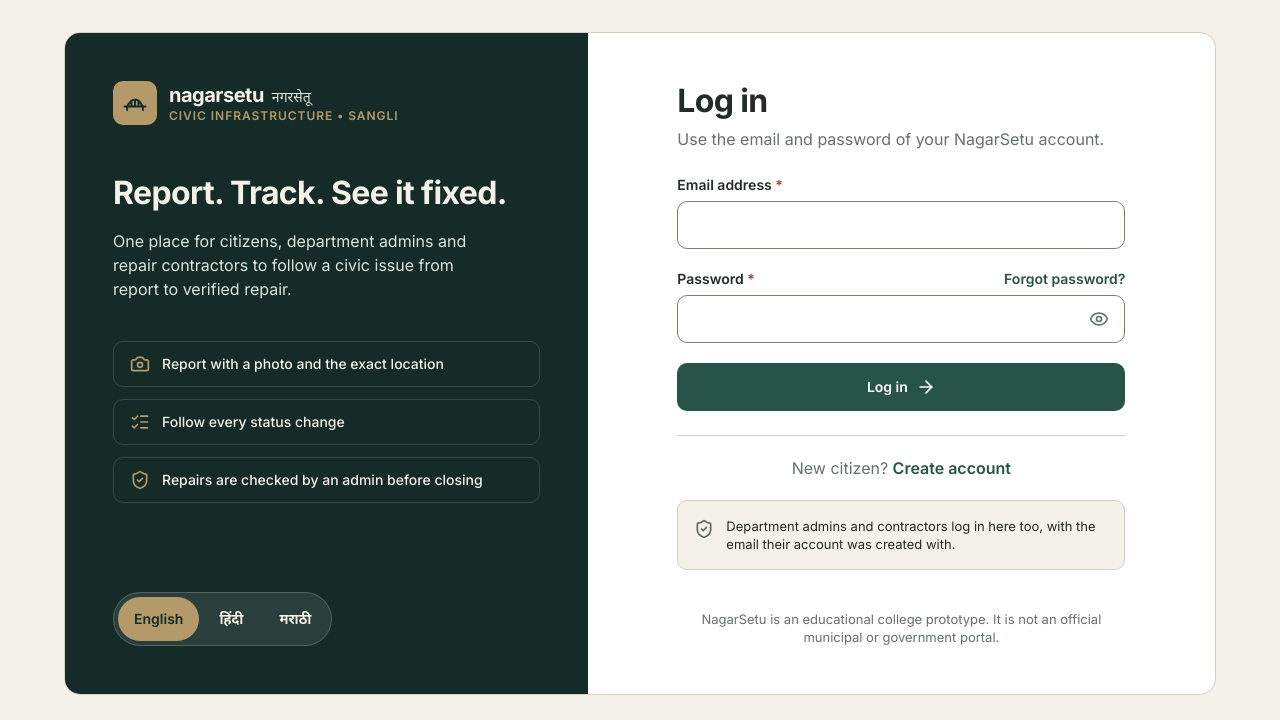
Test case: login and role redirect › shows the lockout screen with the minutes from the server
Type "x@example.com" into the field labelled "Email address *" at (901, 225), box [677,201,1125,249]
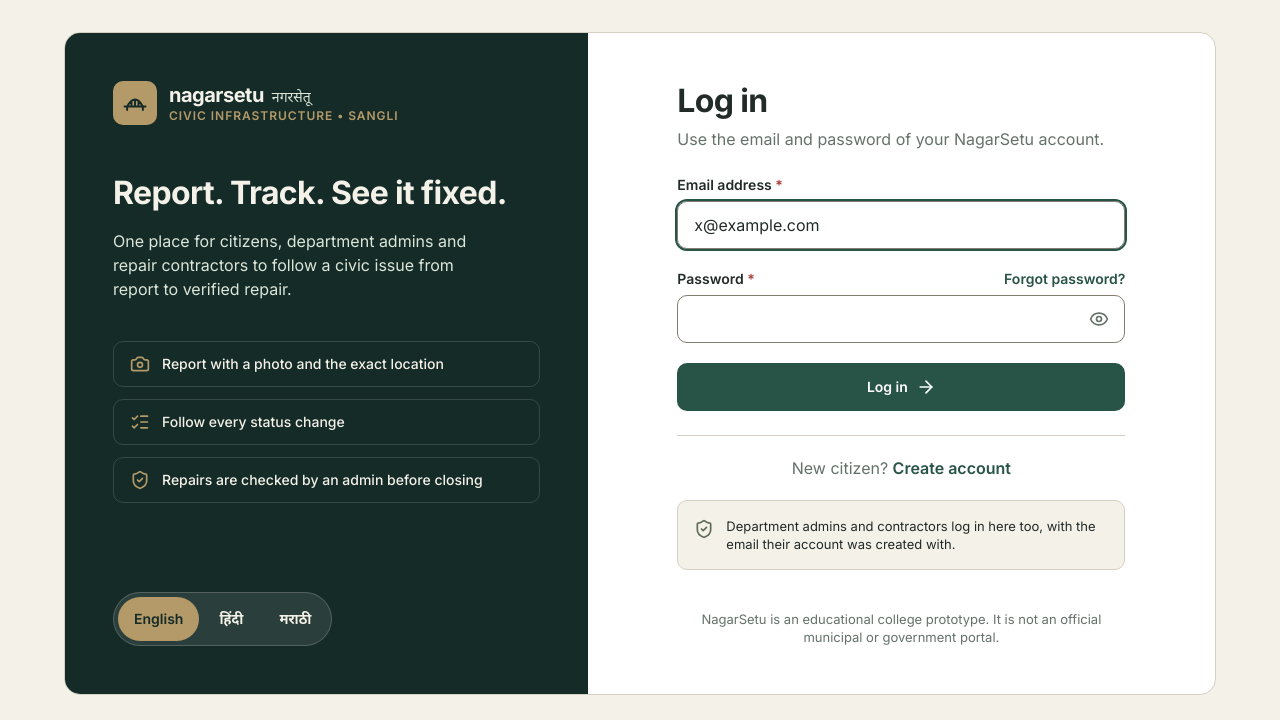
Type "secret-pass" into the password field labelled "Password *" at (901, 319), box [677,295,1125,343]
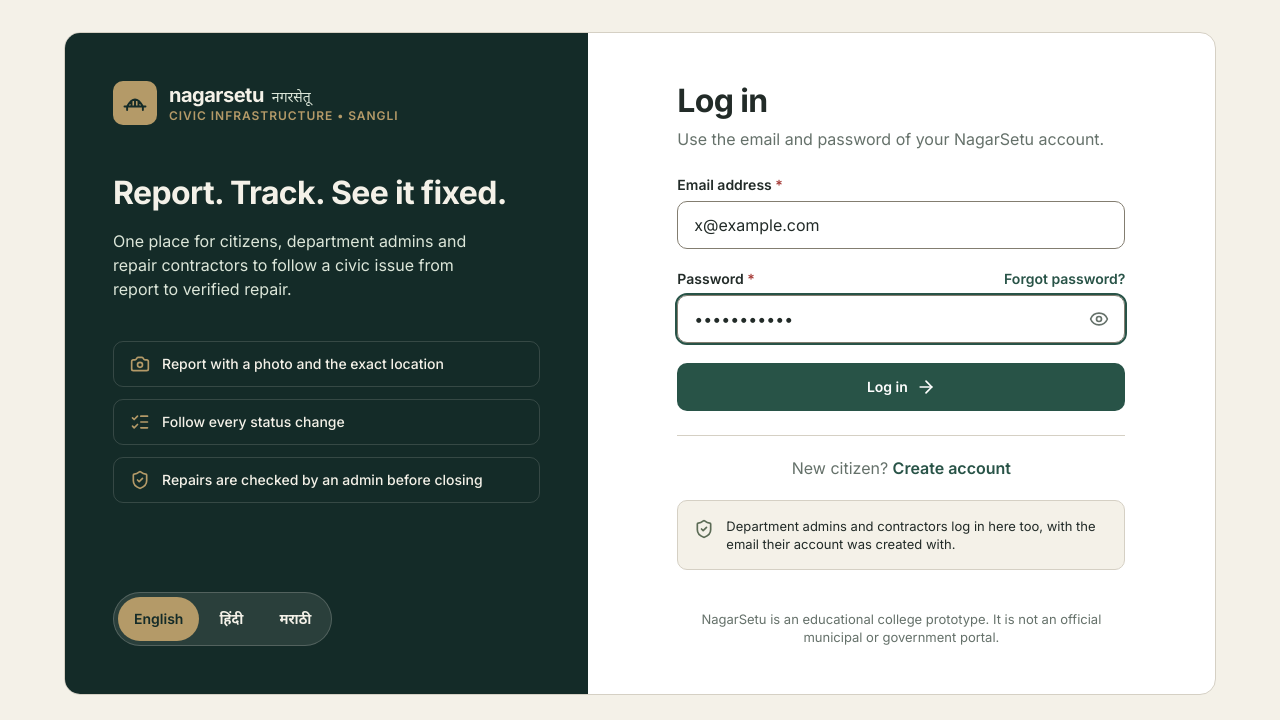
Click the button "Log in" at (901, 387), box [677,363,1125,411]
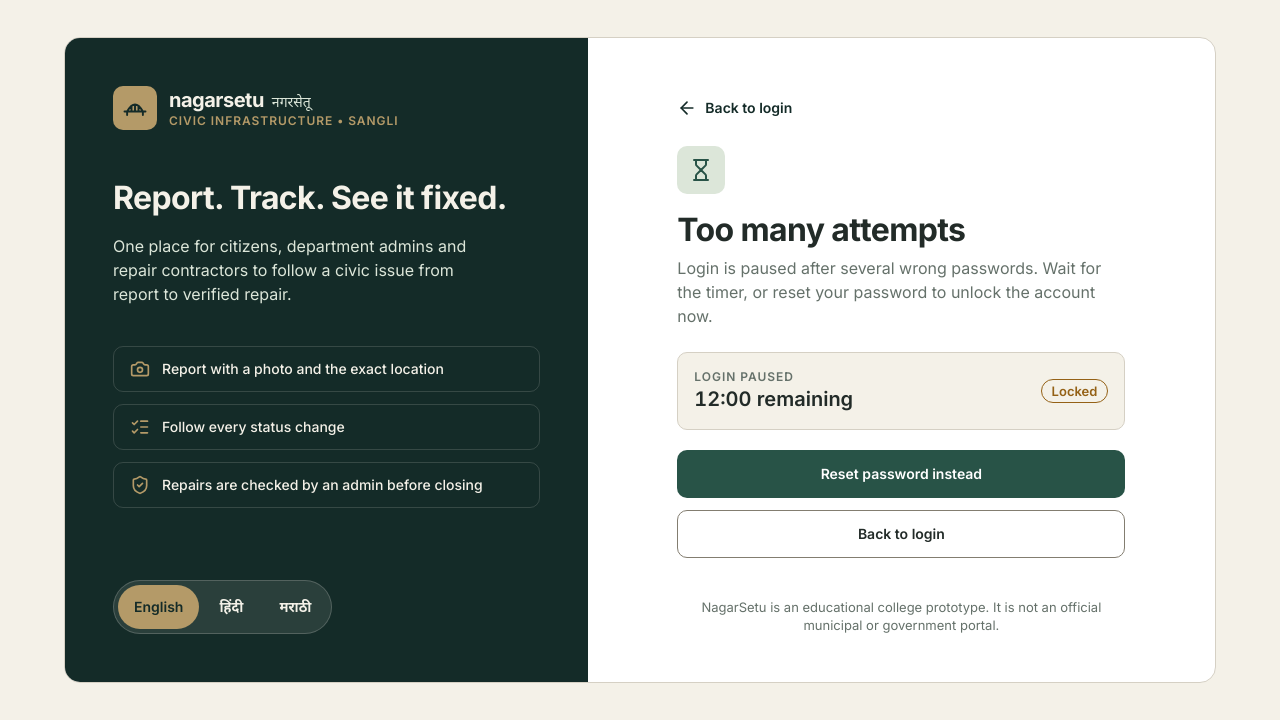
expect the text "12:00 remaining" is shown: met, box [694,385,853,413]
